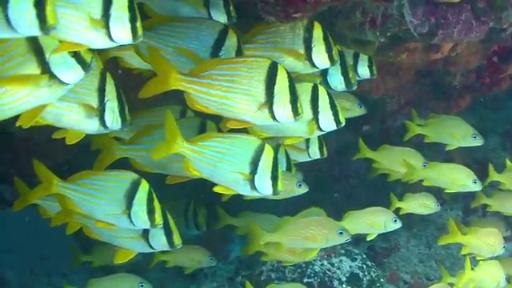Fish: (140, 47, 302, 127), (153, 112, 283, 195), (13, 160, 164, 228), (32, 196, 181, 263), (16, 64, 130, 144), (102, 17, 242, 72), (0, 37, 91, 120), (92, 114, 196, 183), (51, 209, 182, 263), (248, 83, 345, 143), (243, 19, 339, 73), (137, 17, 242, 66), (49, 0, 143, 51), (244, 216, 351, 253), (353, 139, 427, 180), (109, 105, 195, 139), (404, 114, 483, 150), (438, 219, 506, 259), (294, 49, 357, 91), (403, 161, 482, 192), (137, 0, 236, 23), (0, 0, 57, 38), (340, 207, 402, 240), (150, 245, 216, 273), (244, 172, 308, 199), (216, 208, 280, 234), (162, 200, 207, 236), (320, 48, 357, 91), (455, 257, 507, 287), (260, 243, 319, 265), (390, 192, 440, 215), (340, 48, 377, 79), (285, 136, 327, 162), (72, 243, 117, 267), (460, 215, 511, 236), (471, 191, 511, 215), (84, 273, 152, 287), (332, 92, 367, 118), (484, 160, 511, 189), (32, 196, 60, 218), (440, 265, 463, 283), (498, 257, 511, 275), (266, 283, 306, 287), (267, 283, 306, 287), (428, 284, 451, 287)
